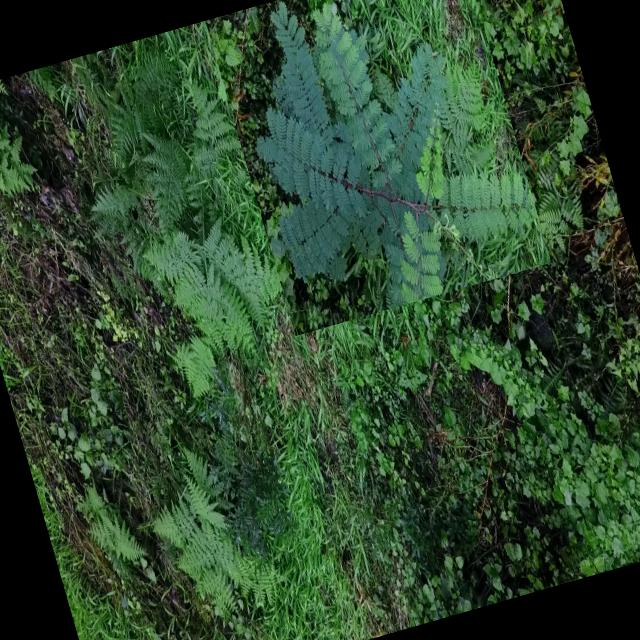Mysore-Thorn-Weed: (205, 0, 551, 335)
